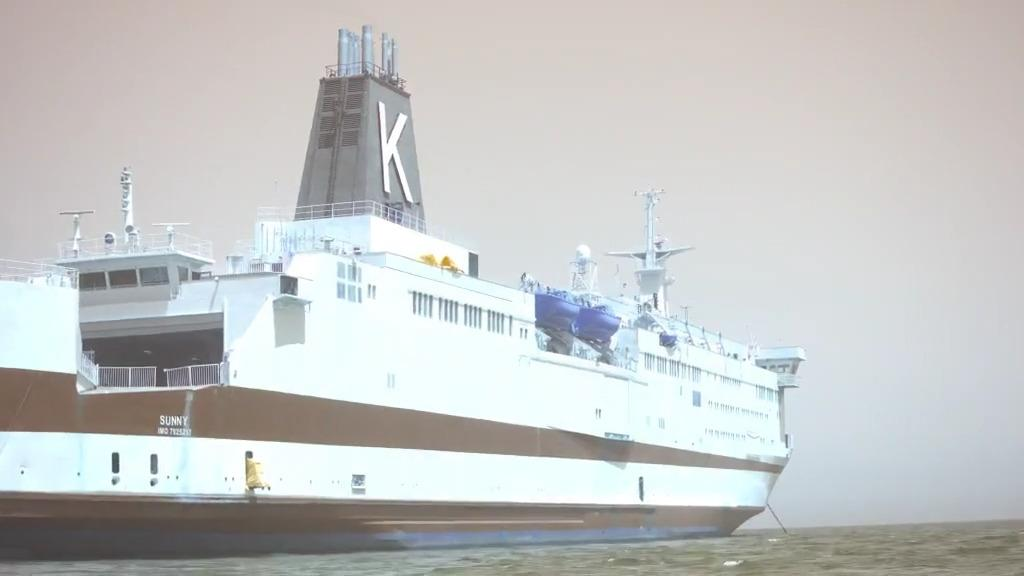PassengerShip: (0, 19, 822, 569)
